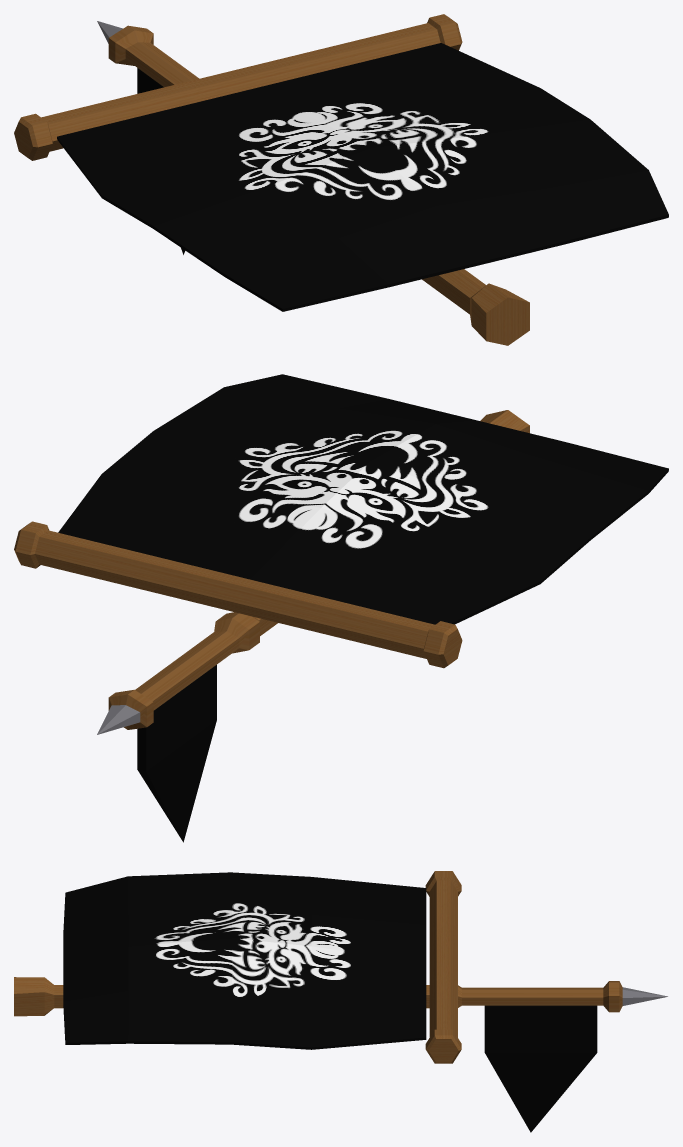
Rendered from sail_a_7.fbx.
3 views of the same model, one above another, from view 1: azimuth 30°, elevation 25°; view 2: azimuth 150°, elevation 25°; view 3: azimuth 270°, elevation 25° (orthographic). The views are drawn at different scales.
Visible parts, largest first — view 1: Cube.055; view 2: Cube.055; view 3: Cube.055.
Boxes of the visible parts, <box> form: Cube.055: <box>14,14,668,345</box>; Cube.055: <box>14,374,668,842</box>; Cube.055: <box>14,871,667,1132</box>.
Bounding box in the file's own units: 101 × 53.59 × 163.
